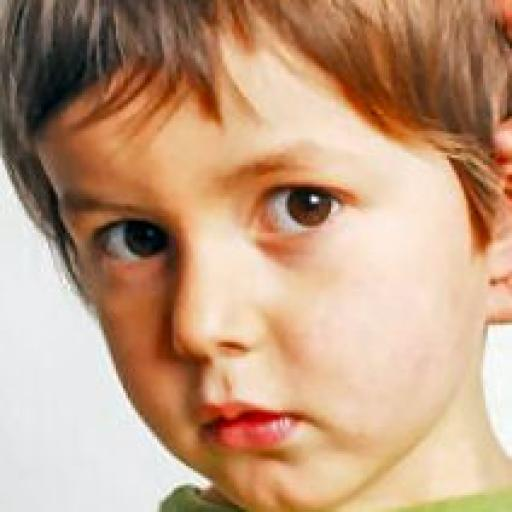Autism: (10, 2, 512, 489)
